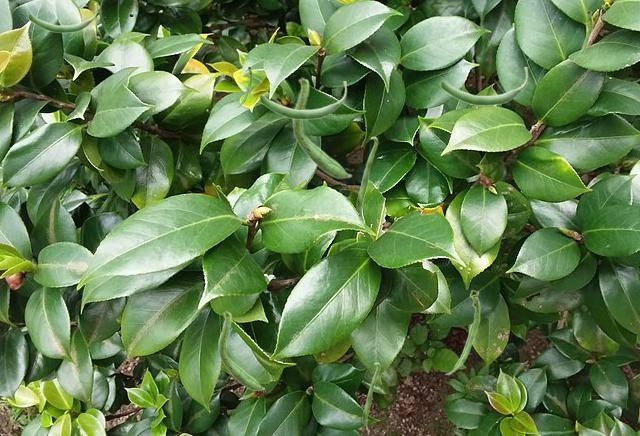french_bean: (292, 76, 351, 178), (218, 310, 264, 390), (440, 67, 527, 105), (259, 81, 346, 119), (444, 289, 479, 374), (28, 3, 96, 32), (356, 136, 377, 225), (362, 362, 379, 434), (571, 10, 591, 60), (235, 66, 251, 107)
